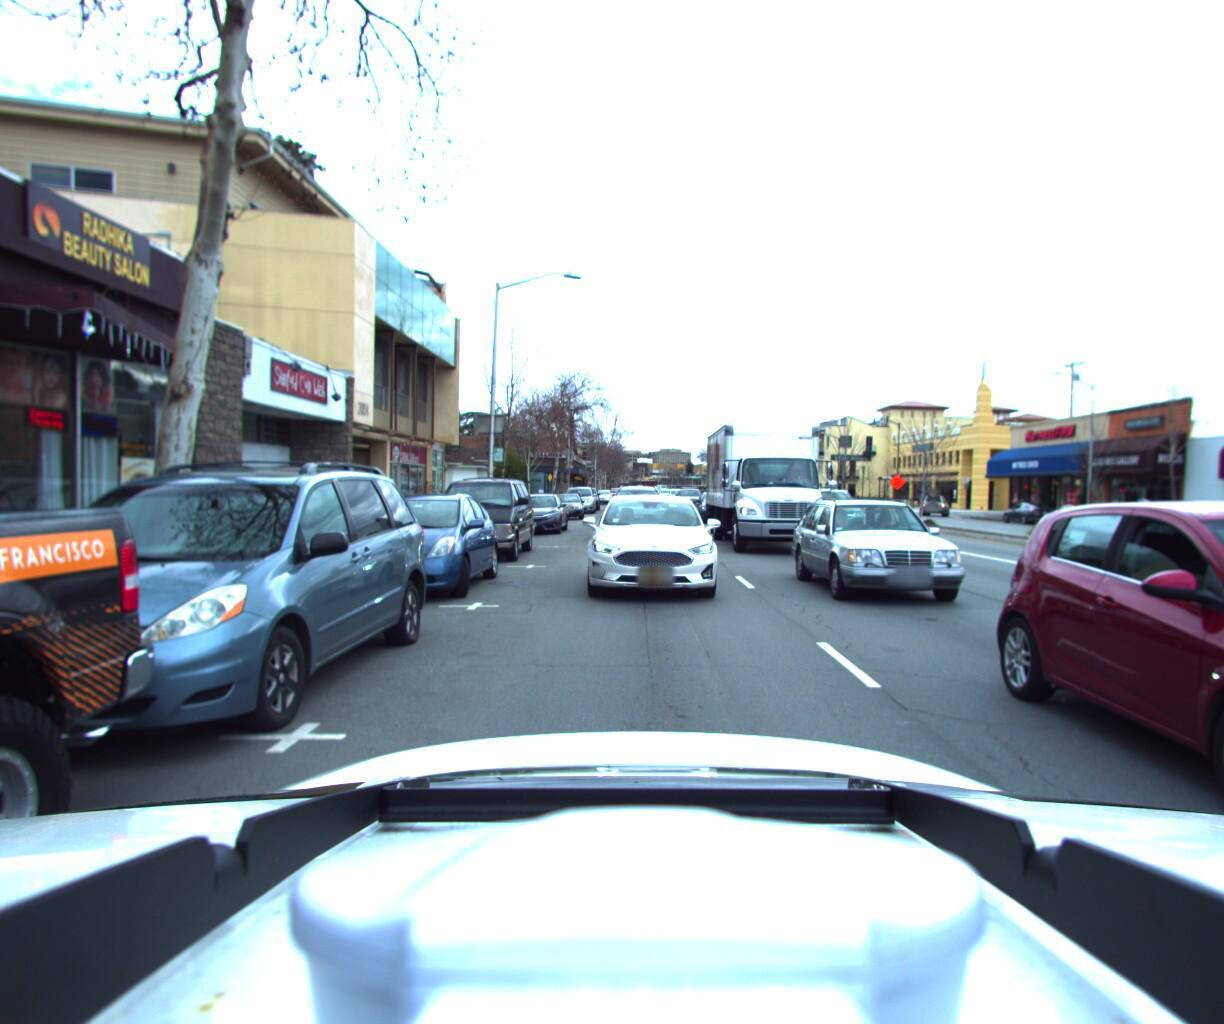car: (0, 427, 434, 780), (1009, 489, 1224, 1024), (775, 491, 992, 621), (305, 491, 498, 614), (1184, 390, 1224, 863), (572, 487, 718, 615), (414, 476, 534, 574), (786, 489, 870, 544), (601, 489, 661, 552), (1113, 514, 1205, 548), (502, 496, 564, 544), (1039, 509, 1113, 537), (689, 494, 734, 535), (1000, 509, 1055, 532), (546, 497, 582, 528), (559, 491, 594, 522), (672, 494, 703, 523), (918, 499, 955, 524), (661, 495, 685, 518)
truck: (692, 412, 860, 569)
